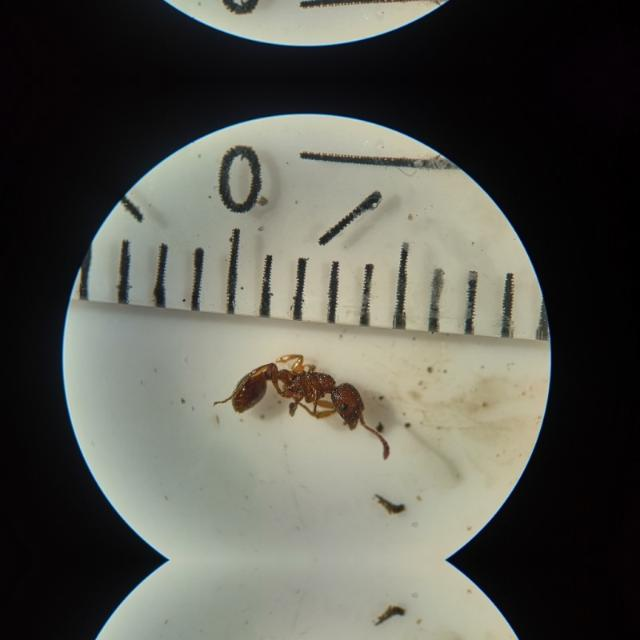Myrmica: (219, 334, 397, 444)
